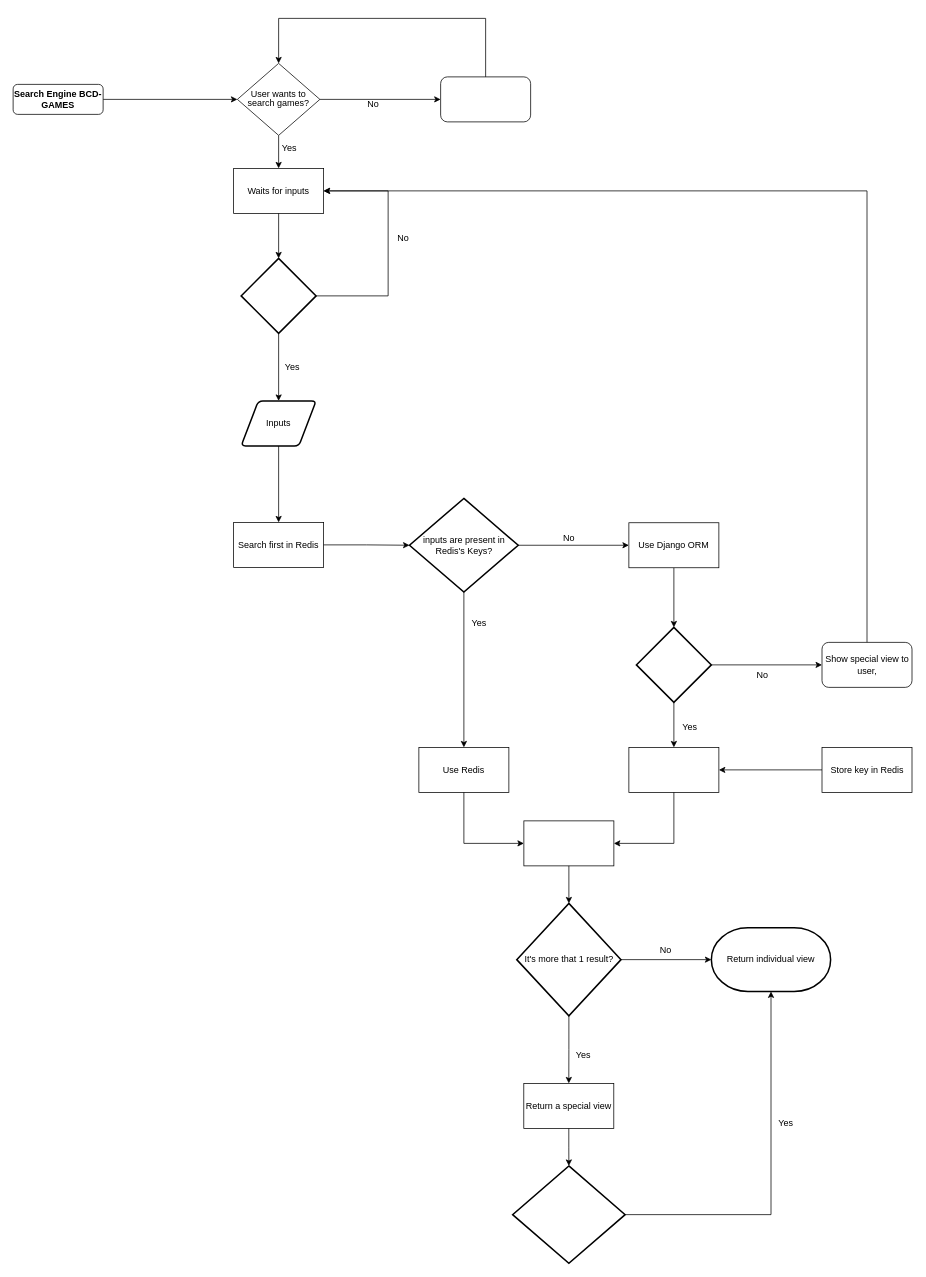
Image size: 926x1277. Some labels were removed from this diagram. Here are the shapes that lost their labels. From the top down, the box of each, then its label:
(440, 76, 531, 122): Don't do anything
(240, 257, 316, 334): Receive inputs?
(635, 626, 712, 703): Exists in ORM?
(628, 747, 719, 792): Use ORM
(523, 820, 614, 866): Return data in view
(512, 1165, 626, 1264): User select specific game?
